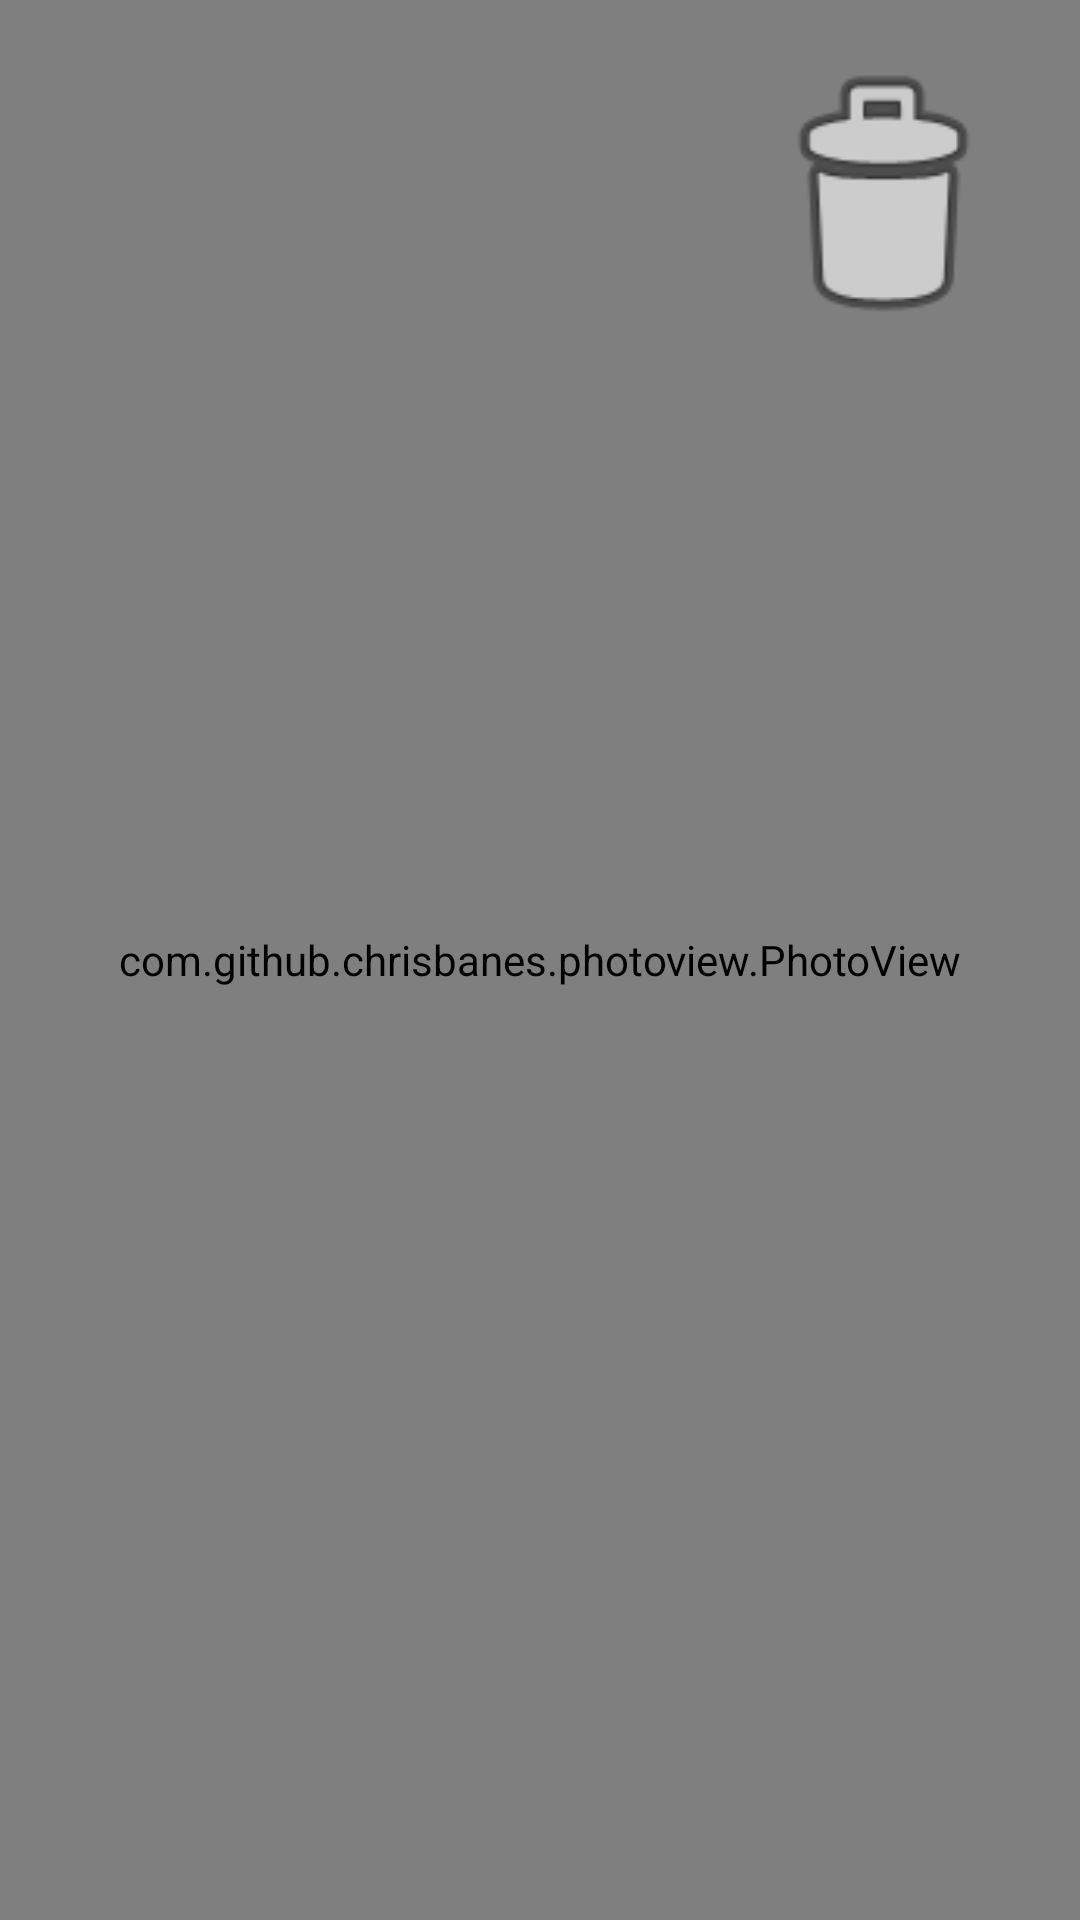

Where icons sit on this 1080 × 1920 app screen, as Rect(x1, y1, x2, y2):
delete: Rect(800, 77, 967, 310)
